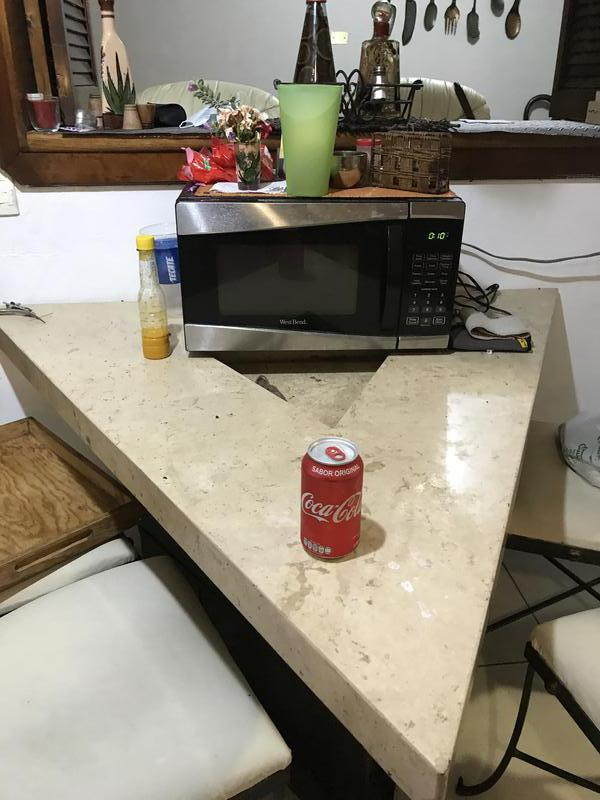coca_cola: (301, 438, 359, 562)
